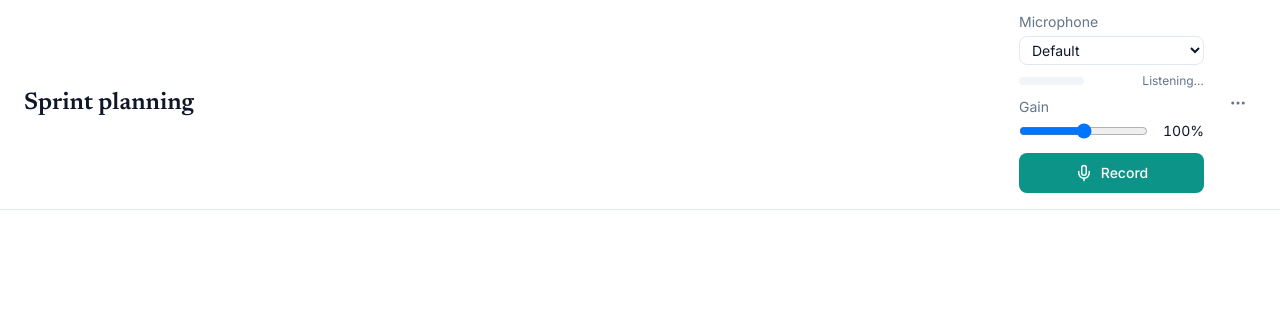
NoteHeader › disables Re-run summary with a visible reason when no agent is configured
This screenshot has width=1280, height=314.
Click the button named "note actions": (1238, 102) [1220, 84, 1256, 120]
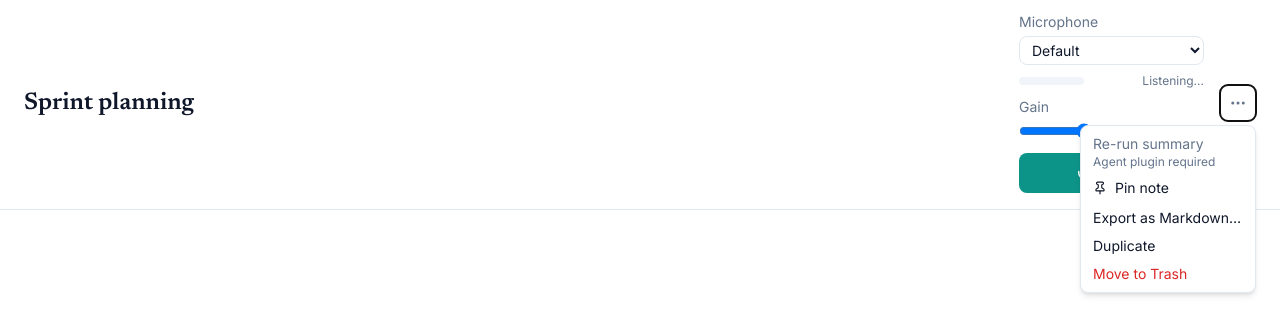
Check: the menu item "Re-run summary Agent plugin required" is disabled, box [1085, 130, 1251, 174]
Check: the menu item "Re-run summary Agent plugin required" is shown, box [1085, 130, 1251, 174]
